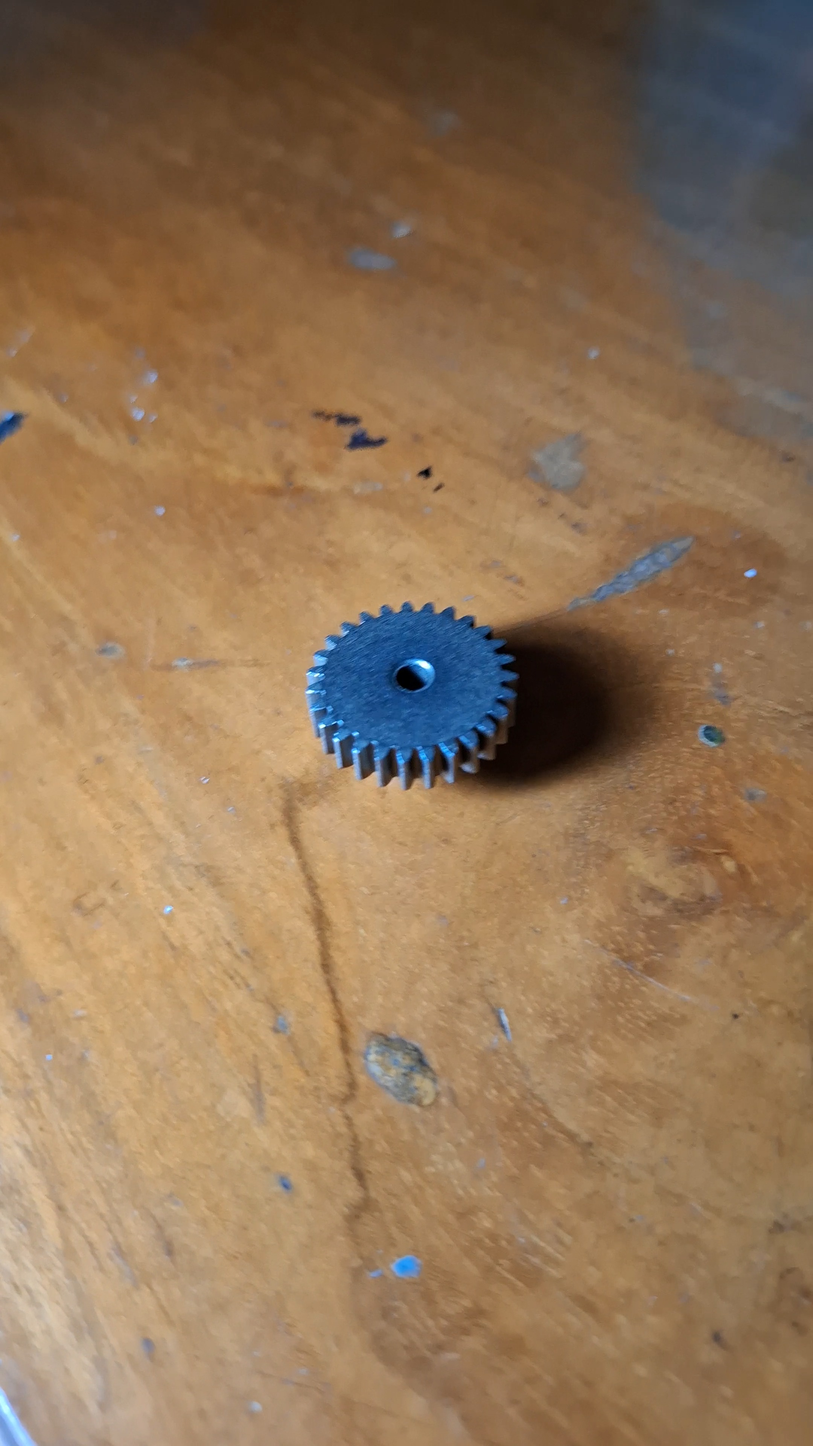spur gear: (306, 603, 517, 789)
